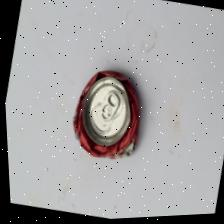metal: (53, 45, 166, 177)
